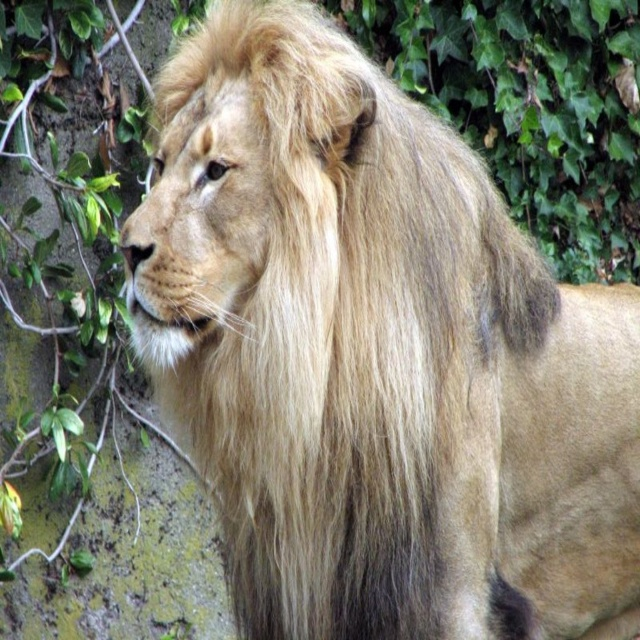Lion: (119, 0, 639, 639)
